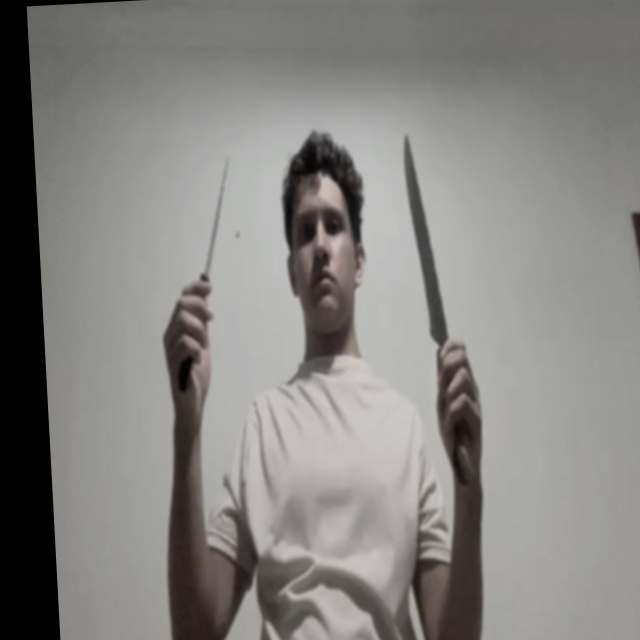Sharp-Object: (403, 132, 448, 342), (201, 153, 235, 271)
